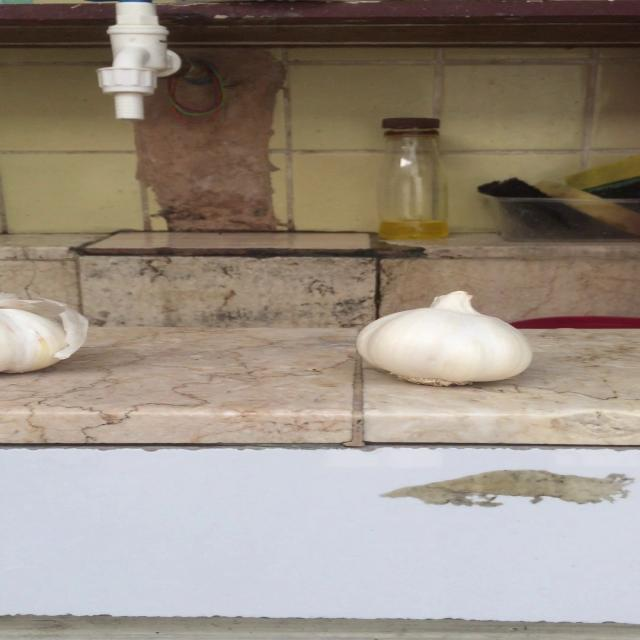garlic: (354, 290, 536, 389)
